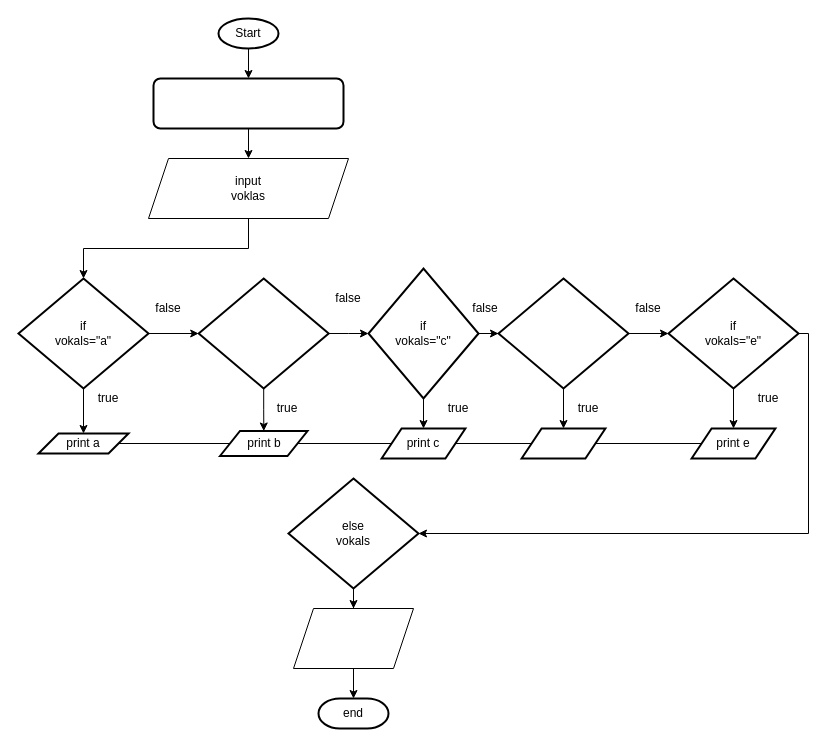
Some shapes in this 834 by 746 pixel diagram are drawn without their labels. The shapes that lost their labels are listed below. From the top down, each one's centre as x and y in pixels, then its label:
(x=248, y=103): initialization vokals
(x=263, y=333): if else vokals="b"
(x=563, y=333): if vokals="d"
(x=563, y=443): print d
(x=353, y=638): output
